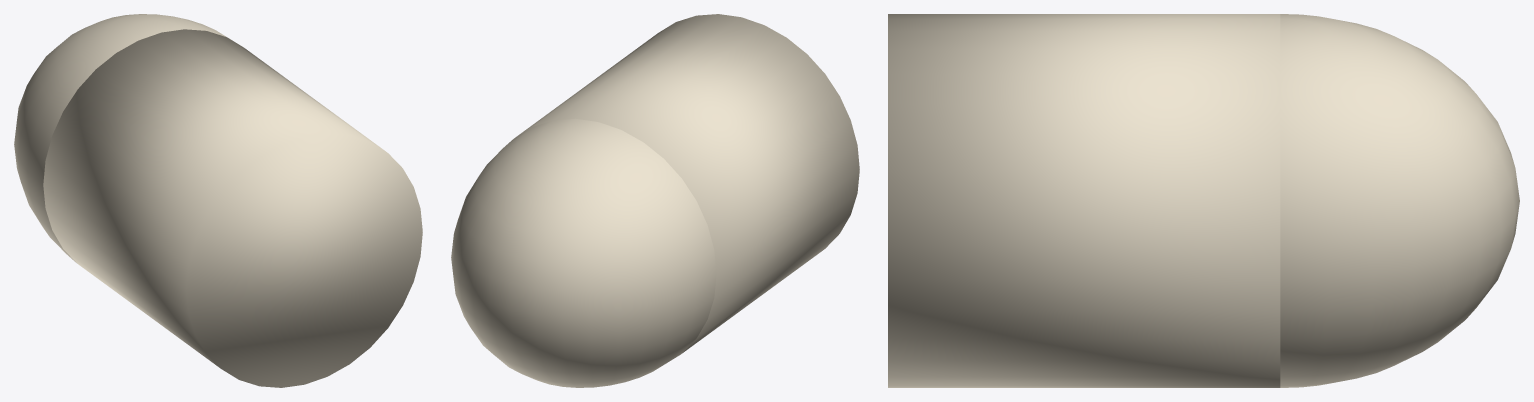
3 renders of one model, left to right at view 1: azimuth 30°, elevation 25°; view 2: azimuth 150°, elevation 25°; view 3: azimuth 270°, elevation 25°, orthographic. The views are drawn at different scales.
Visible parts, largest first — view 1: 円柱, 球; view 2: 球, 円柱; view 3: 円柱, 球.
Part boxes in pixels (x1,y1,x2,y2): 円柱: (43, 29, 422, 387); 球: (14, 14, 243, 262); 球: (451, 118, 716, 387); 円柱: (516, 14, 859, 353); 円柱: (888, 14, 1280, 387); 球: (1280, 14, 1519, 387).
Bounding box in the file's own units: 200 × 200 × 338.
